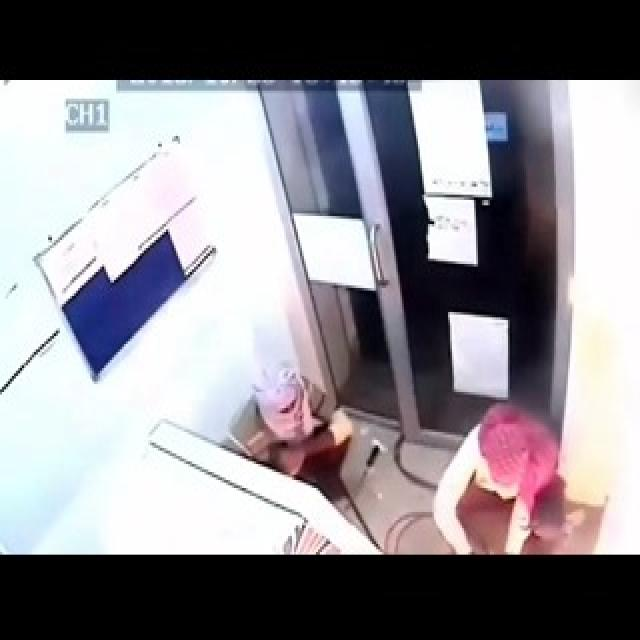thief: (423, 395, 562, 529), (240, 363, 346, 502)
